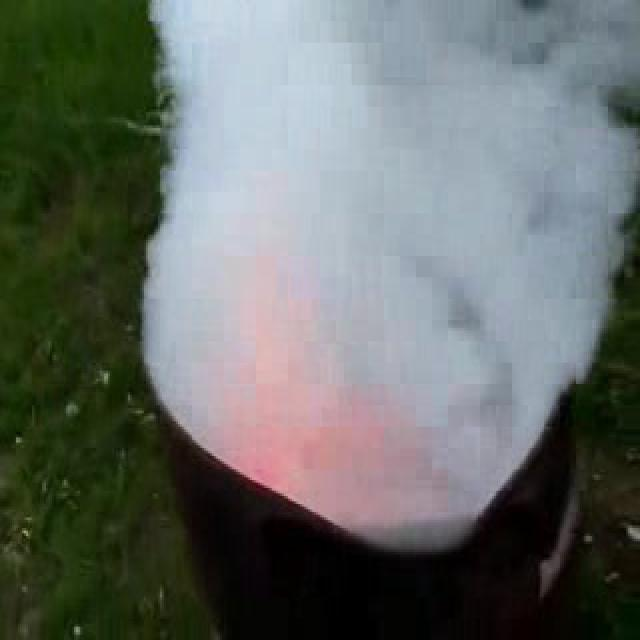Smoke: (137, 0, 640, 553)
